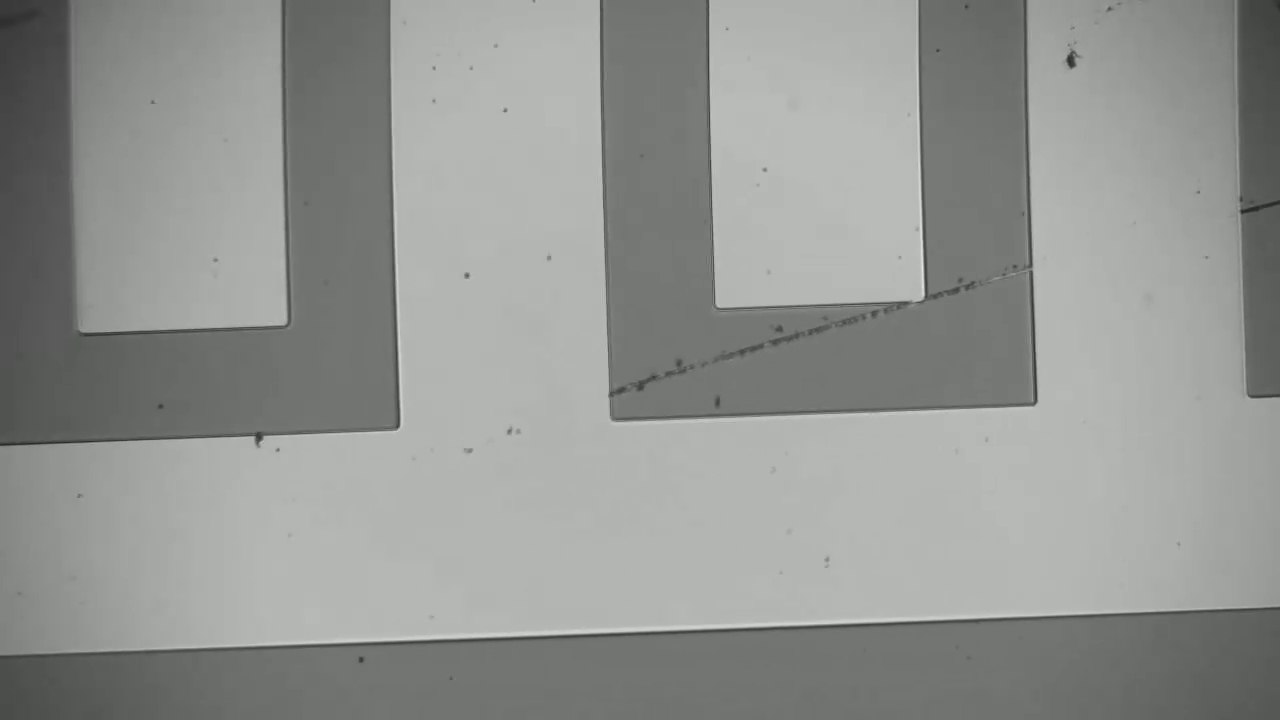scratch: (615, 269, 1020, 393)
